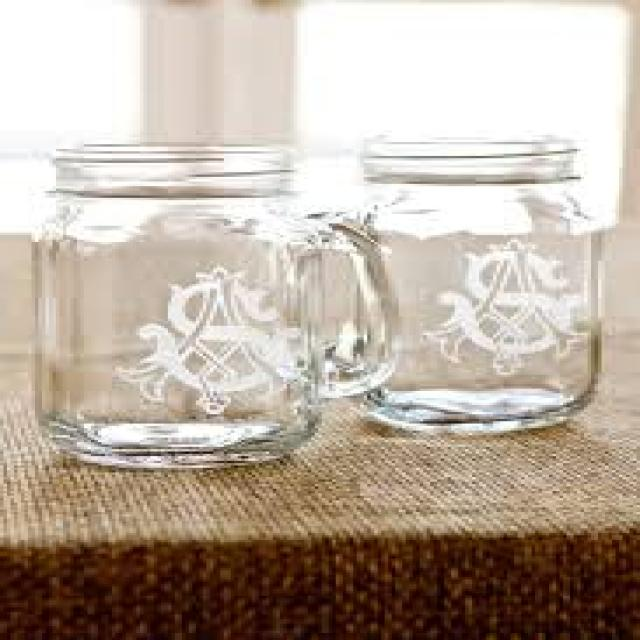glass: (28, 142, 392, 470), (336, 135, 595, 431)
